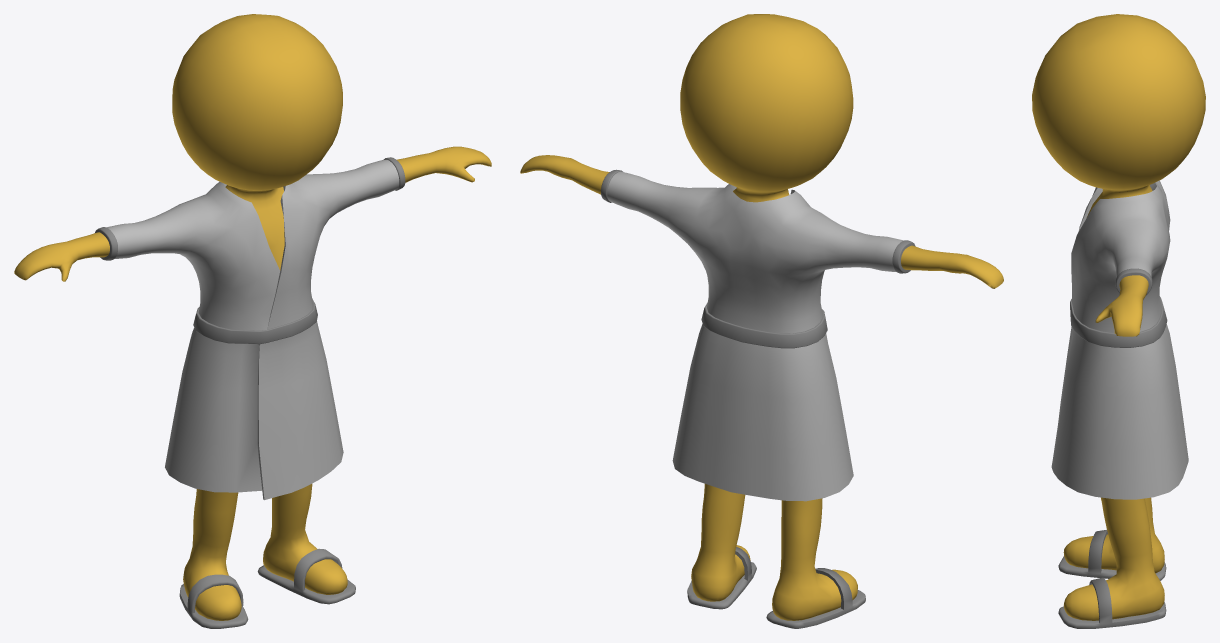
Rendered from bathrobe.fbx.
3 renders of one model, left to right at view 1: azimuth 30°, elevation 25°; view 2: azimuth 150°, elevation 25°; view 3: azimuth 270°, elevation 25°, orthographic.
Parts seen in each view (by area): view 1: bathrobe; view 2: bathrobe; view 3: bathrobe.
Boxes of the visible parts, box(x1,y1,x2,y2) form: bathrobe: box(14, 14, 491, 628); bathrobe: box(520, 14, 1003, 628); bathrobe: box(1032, 14, 1205, 628).
Bounding box in the file's own units: 1.55 × 0.4999 × 1.8.
